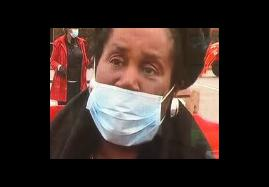mask_weared_incorrect: (95, 49, 169, 146)
